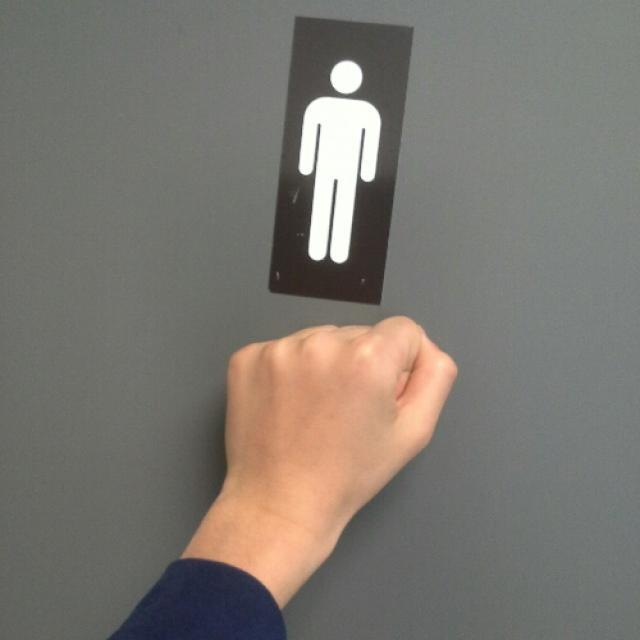rock: (221, 314, 462, 492)
